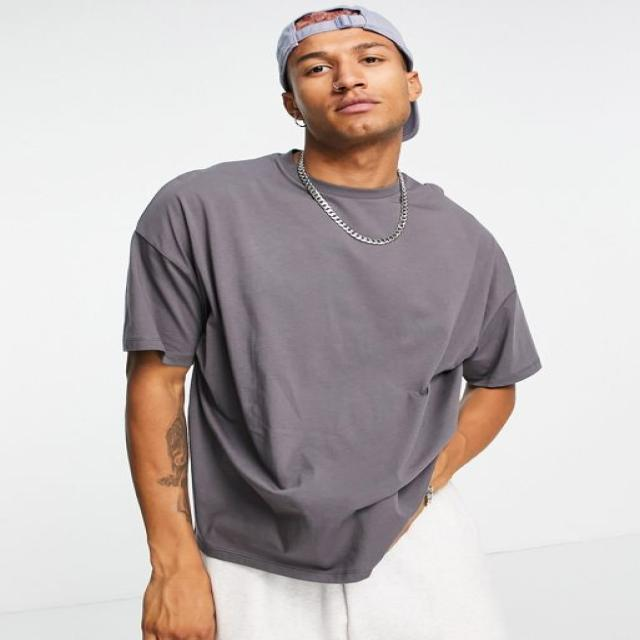tshirt: (121, 148, 540, 582)
